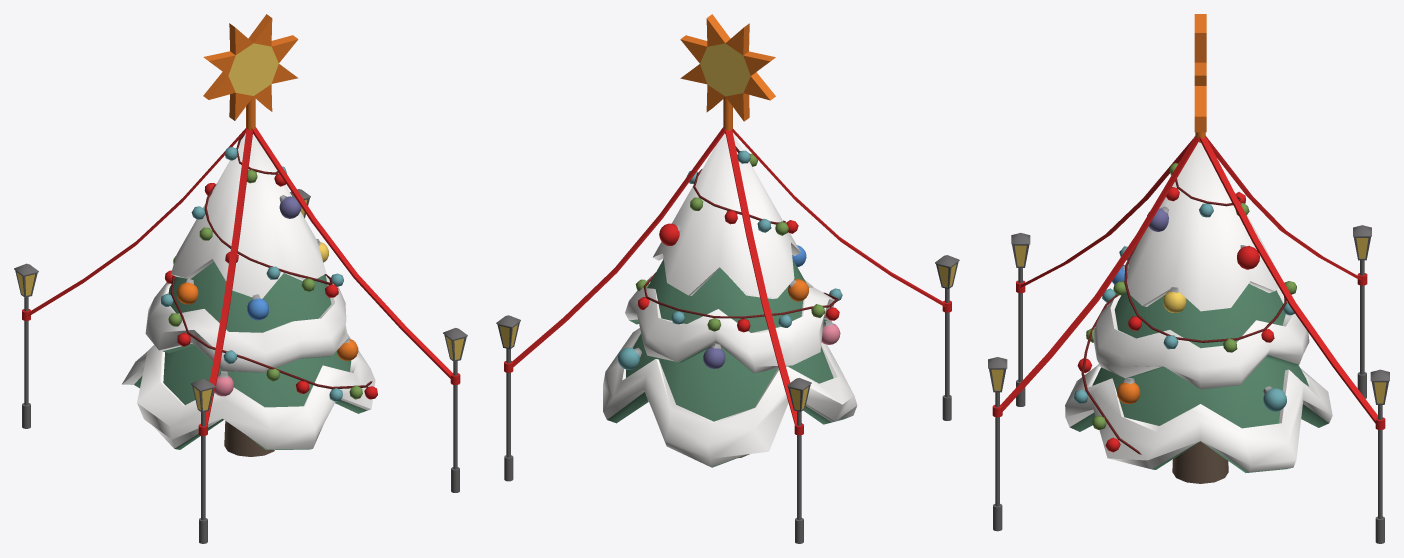
Rendered from Christmas_Tree_3.glb.
3 views of the same model, side by side, from view 1: azimuth 30°, elevation 25°; view 2: azimuth 150°, elevation 25°; view 3: azimuth 270°, elevation 25° (orthographic). The views are drawn at different scales.
Visible parts, largest first — view 1: Christmas_Tree_3; view 2: Christmas_Tree_3; view 3: Christmas_Tree_3.
Part boxes in pixels (bbox=[...]): Christmas_Tree_3: bbox=[14, 14, 467, 543]; Christmas_Tree_3: bbox=[496, 14, 959, 543]; Christmas_Tree_3: bbox=[988, 14, 1389, 543].
Size of the model in its own units: 4 by 5.5 by 4.45.
1 material, 1 textured.
